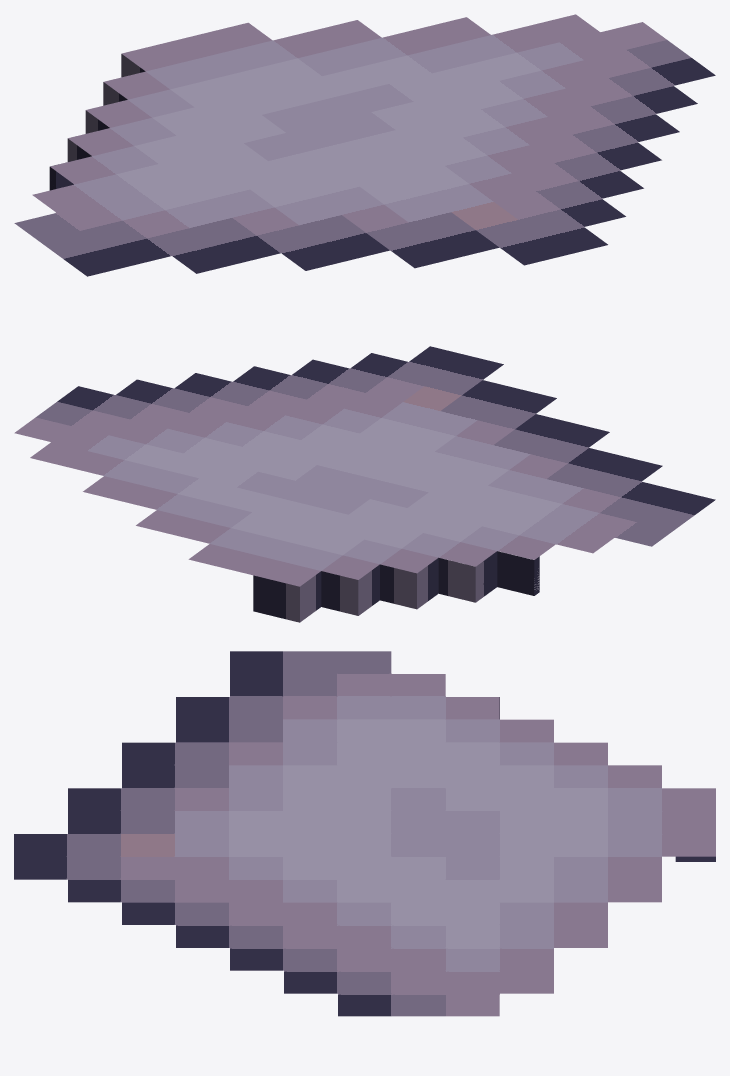
The model's file is Cojin.obj.
3 views of the same model, one above another, from view 1: azimuth 30°, elevation 25°; view 2: azimuth 150°, elevation 25°; view 3: azimuth 270°, elevation 25° (orthographic). The views are drawn at different scales.
Parts seen in each view (by area): view 1: Plane_Plane.001; view 2: Plane_Plane.001; view 3: Plane_Plane.001.
Part boxes in pixels (x1,y1,x2,y2): Plane_Plane.001: (14,14,715,276); Plane_Plane.001: (14,346,715,622); Plane_Plane.001: (14,651,715,1016).
Bounding box in the file's own units: 1.14 × 0.0661 × 0.9286.
1 material, 1 textured.
